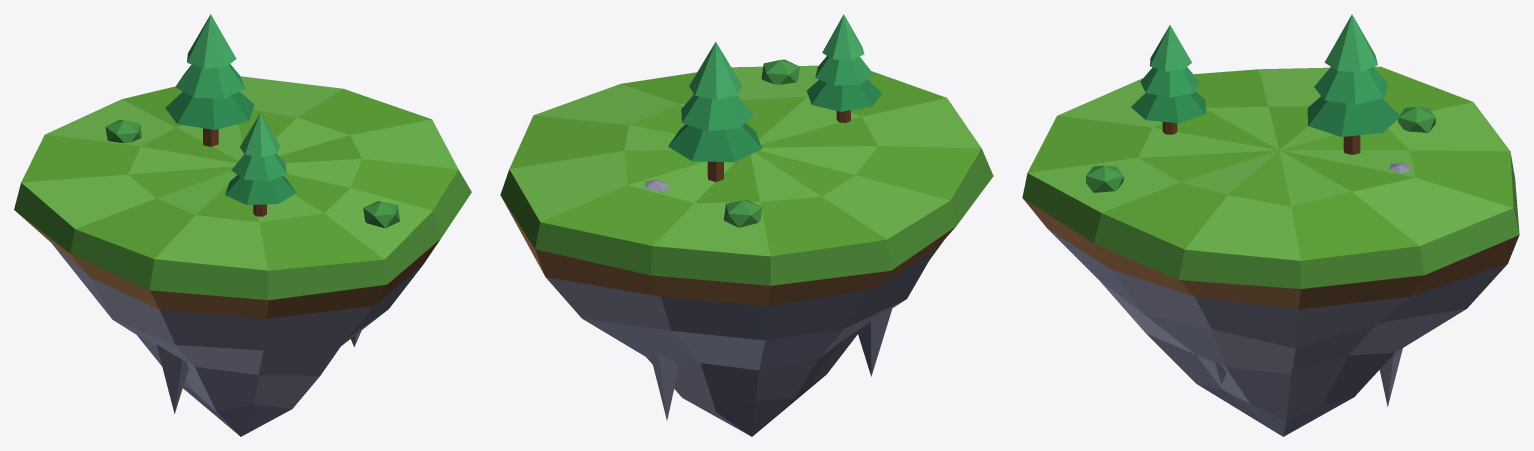
Rendered from island_1.glb.
3 renders of one model, left to right at view 1: azimuth 30°, elevation 25°; view 2: azimuth 150°, elevation 25°; view 3: azimuth 270°, elevation 25°, orthographic. The views are drawn at different scales.
Visible parts, largest first — view 1: Rock, Trees; view 2: Rock, Trees; view 3: Rock, Trees.
Part boxes in pixels (x1,y1,x2,y2): Rock: (14,76,471,436); Trees: (105,14,399,228); Rock: (500,65,993,436); Trees: (644,14,881,227); Rock: (1022,66,1519,436); Trees: (1086,14,1435,192).
Size of the model in its own units: 7.64 by 7.63 by 8.1.
